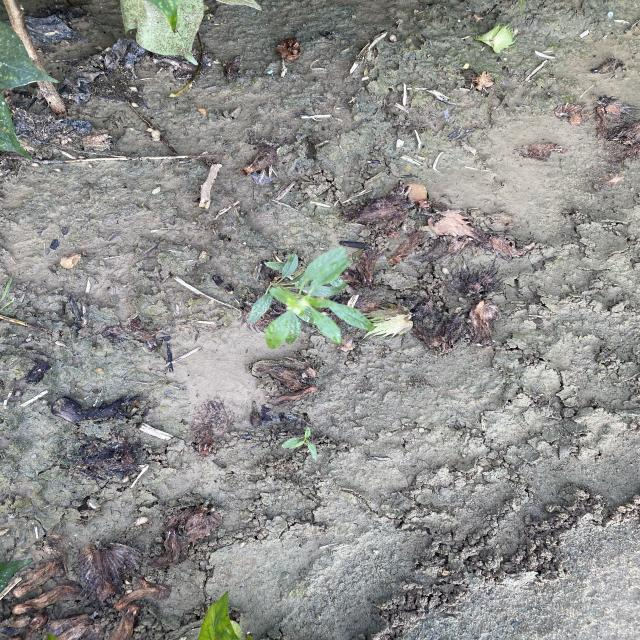Waterhemp: (245, 245, 377, 352)
